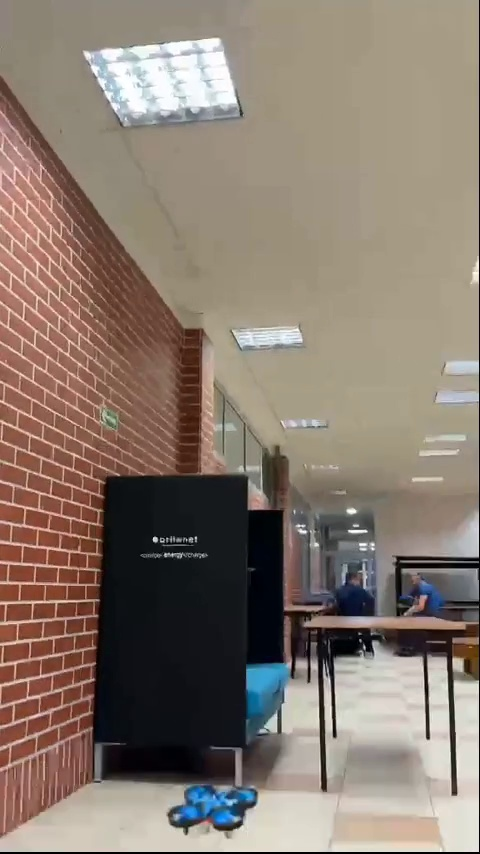drone: (172, 775, 251, 832)
no vest: (324, 570, 377, 637), (396, 567, 444, 630)
